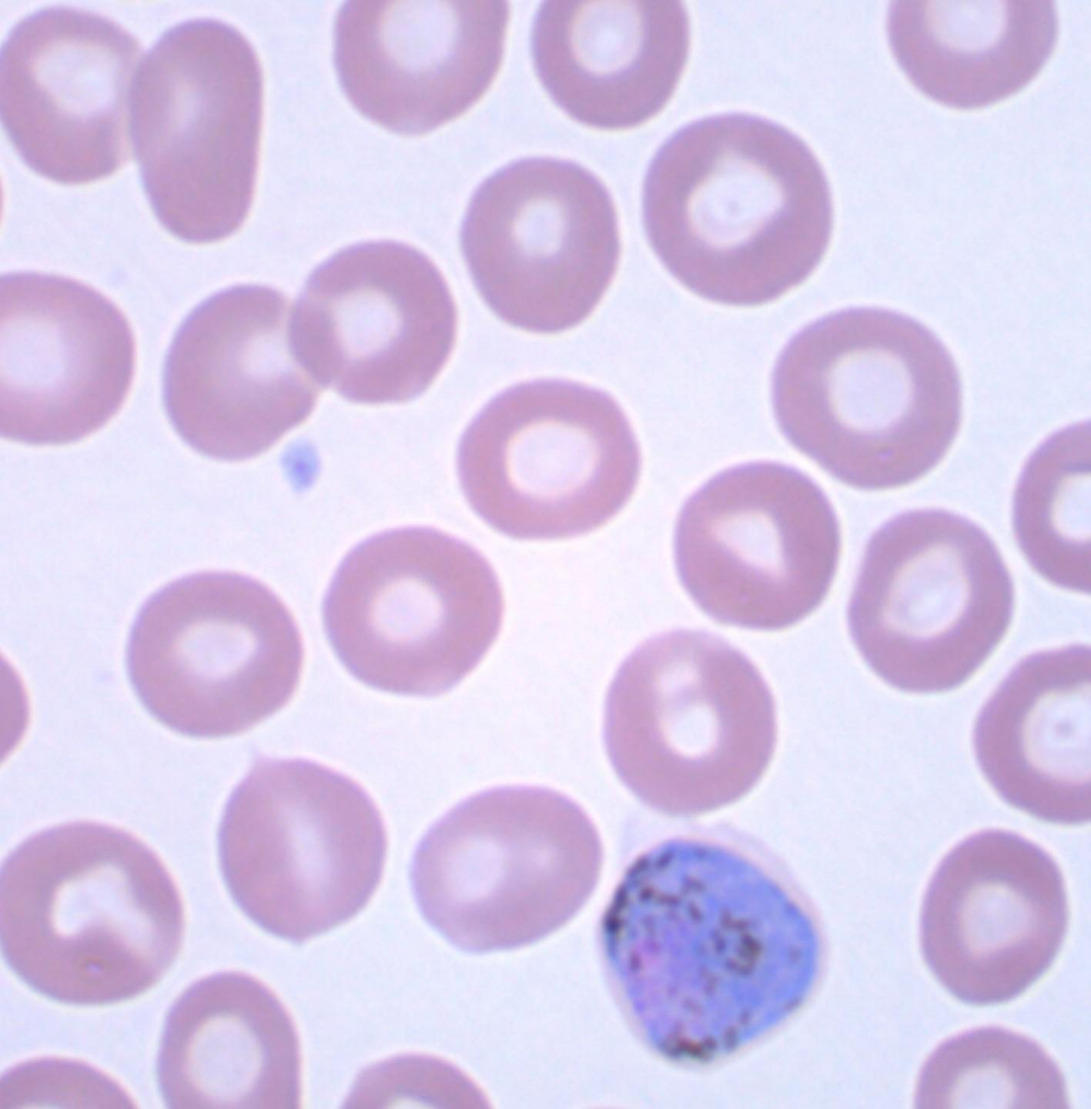Infected: (588, 822, 831, 1073)
Uninfected: (644, 111, 829, 310), (765, 301, 959, 488), (0, 824, 194, 1006), (598, 619, 781, 810), (400, 788, 598, 964), (210, 750, 381, 953), (316, 519, 504, 697), (121, 14, 259, 248), (121, 565, 307, 738), (449, 373, 637, 544), (670, 452, 839, 640), (164, 286, 343, 457), (0, 1, 169, 181), (847, 506, 1009, 693), (457, 157, 619, 342), (287, 245, 458, 411), (916, 827, 1060, 1008), (334, 0, 507, 142), (0, 268, 131, 447), (531, 1, 690, 135), (973, 642, 1091, 822), (154, 976, 297, 1109)
